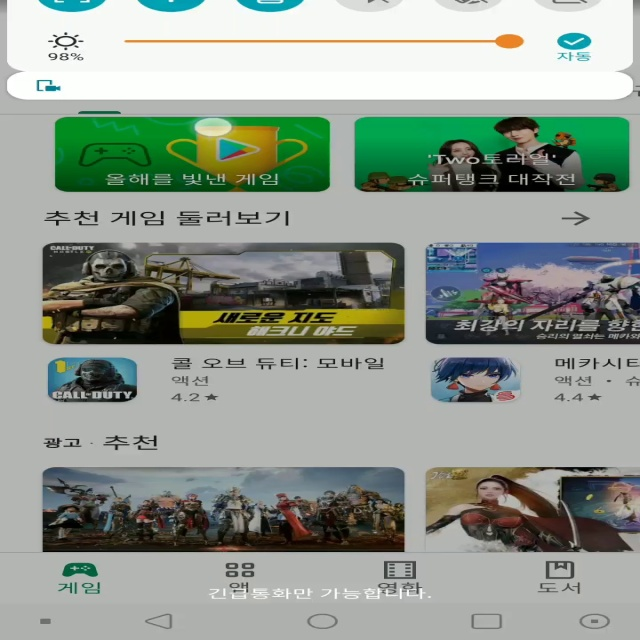Cursor: (192, 116, 237, 139)
